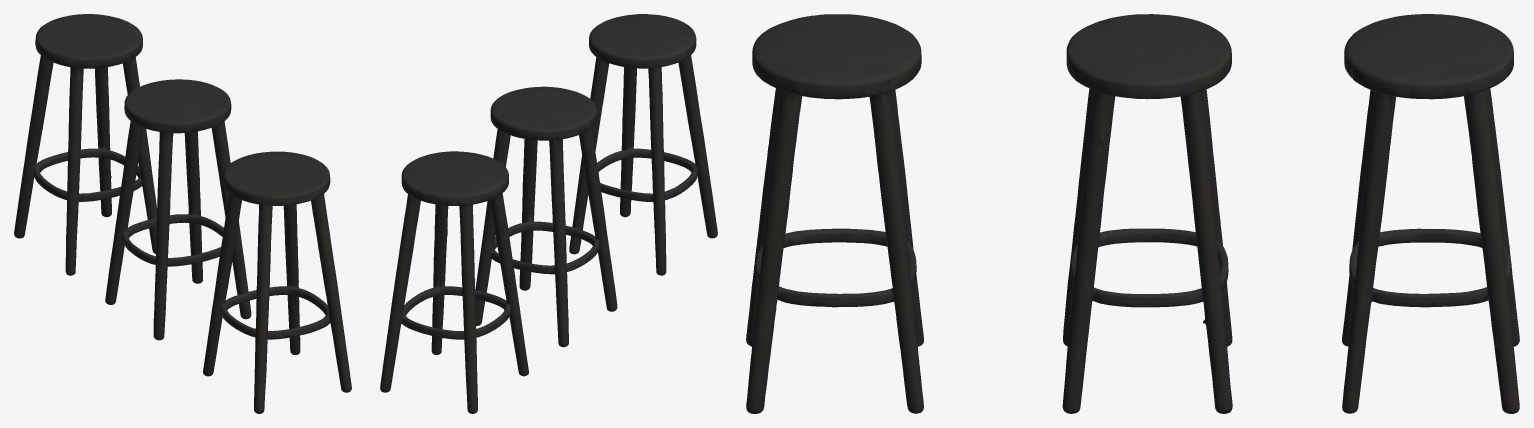
Rendered from ilot.glb.
3 views of the same model, side by side, from view 1: azimuth 30°, elevation 25°; view 2: azimuth 150°, elevation 25°; view 3: azimuth 270°, elevation 25° (orthographic). The views are drawn at different scales.
Visible parts, largest first — view 1: tripo_node_6580bf8e-e099-40cb-976f-effd7b7028ff; view 2: tripo_node_6580bf8e-e099-40cb-976f-effd7b7028ff; view 3: tripo_node_6580bf8e-e099-40cb-976f-effd7b7028ff.
Part boxes in pixels (x1,y1,x2,y2): tripo_node_6580bf8e-e099-40cb-976f-effd7b7028ff: [14, 14, 351, 413]; tripo_node_6580bf8e-e099-40cb-976f-effd7b7028ff: [380, 14, 717, 413]; tripo_node_6580bf8e-e099-40cb-976f-effd7b7028ff: [746, 14, 1519, 413].
Bounding box in the file's own units: 0.2268 × 0.4749 × 1.
Materials: 1 (1 with a texture image).
